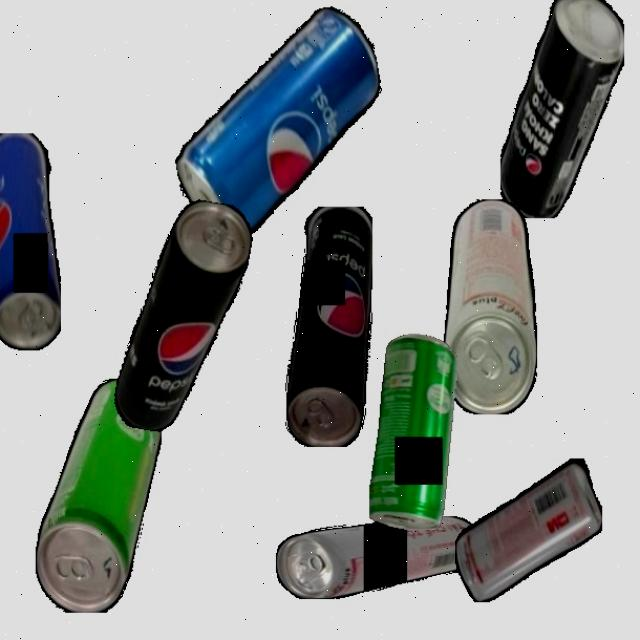debris: (154, 1, 404, 254), (110, 192, 257, 442), (35, 378, 162, 612), (500, 0, 624, 218), (454, 458, 602, 602), (284, 206, 372, 447), (443, 198, 537, 414), (276, 515, 492, 599), (368, 332, 458, 530), (0, 132, 61, 350)
